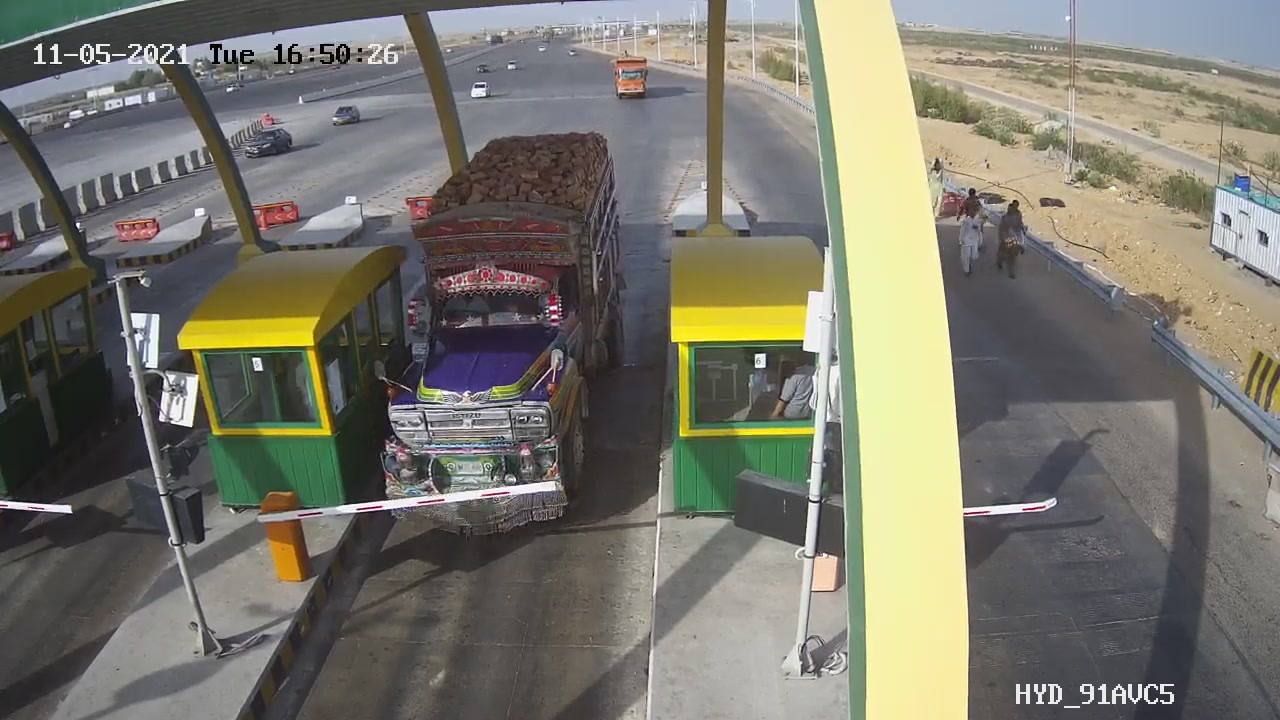F5: (349, 118, 649, 556)
